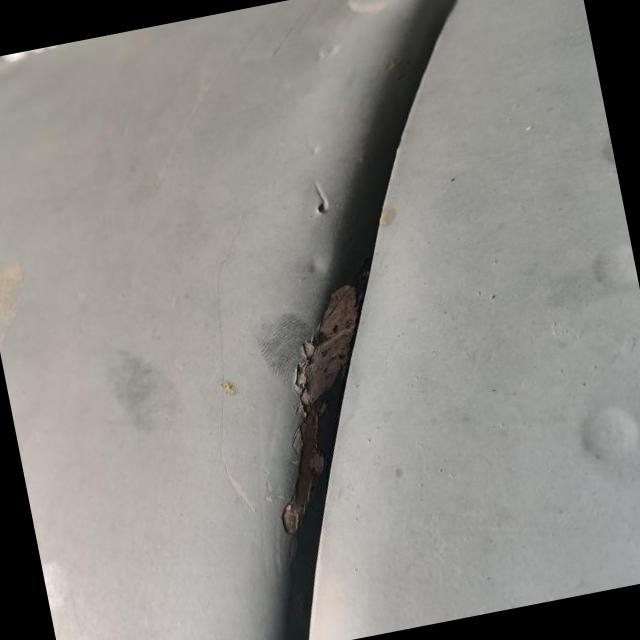Paint-off: (282, 284, 363, 571)
